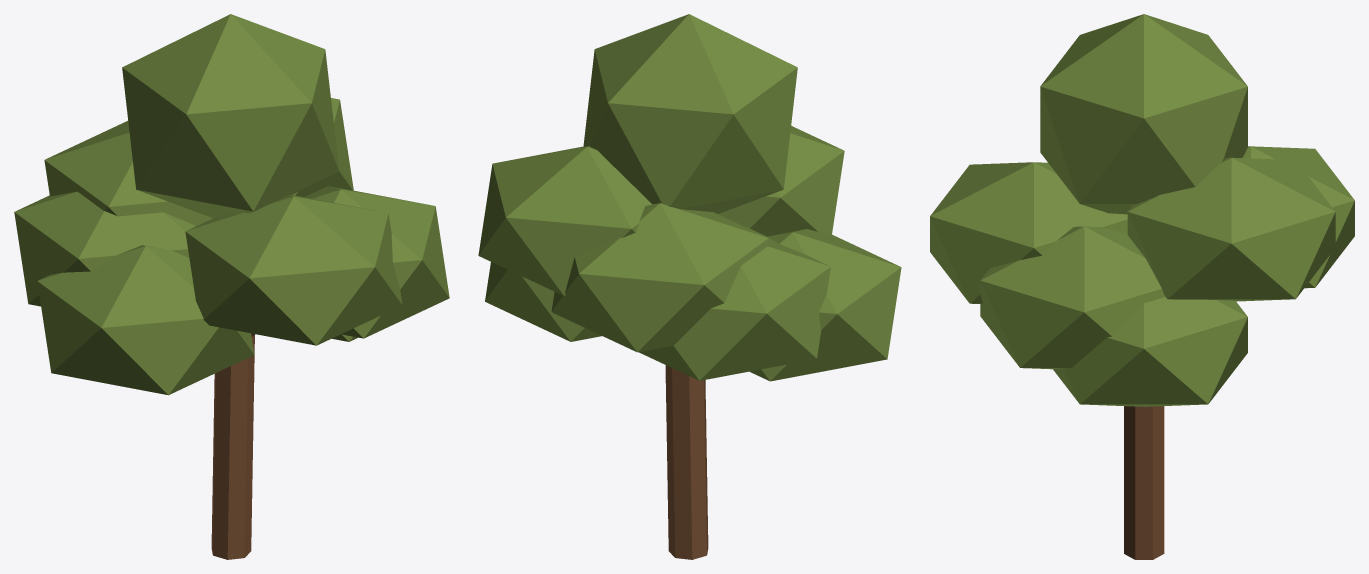
Rendered from tree_23.glb.
3 views of the same model, side by side, from view 1: azimuth 30°, elevation 25°; view 2: azimuth 150°, elevation 25°; view 3: azimuth 270°, elevation 25° (orthographic).
Visible parts, largest first — view 1: tree_23; view 2: tree_23; view 3: tree_23.
Part boxes in pixels (x1,y1,x2,y2): tree_23: (14, 14, 449, 559); tree_23: (478, 14, 901, 559); tree_23: (930, 14, 1354, 559).
Size of the model in its own units: 4.89 by 6.63 by 4.75.
